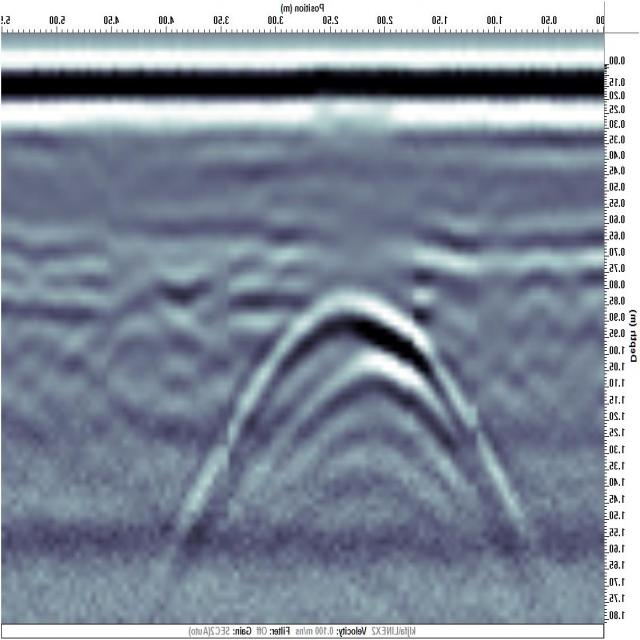hyperbola: (195, 269, 478, 524), (288, 354, 454, 506)
